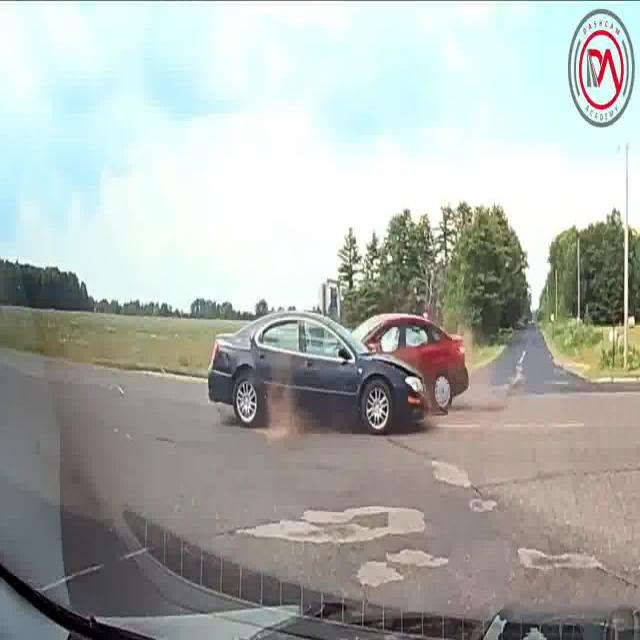Accident: (194, 258, 477, 459)
